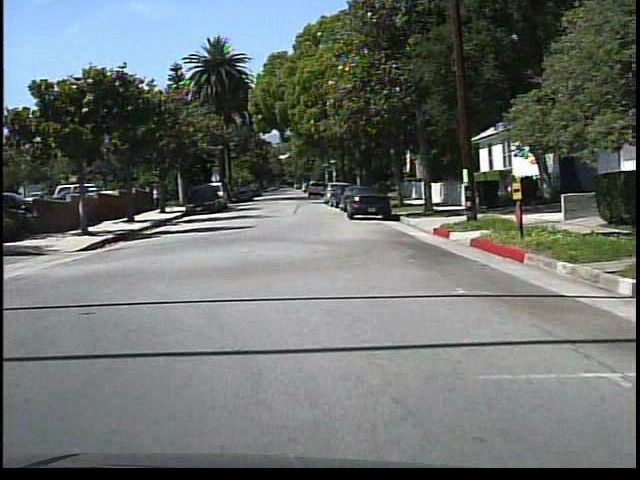person: (149, 183, 163, 211)
